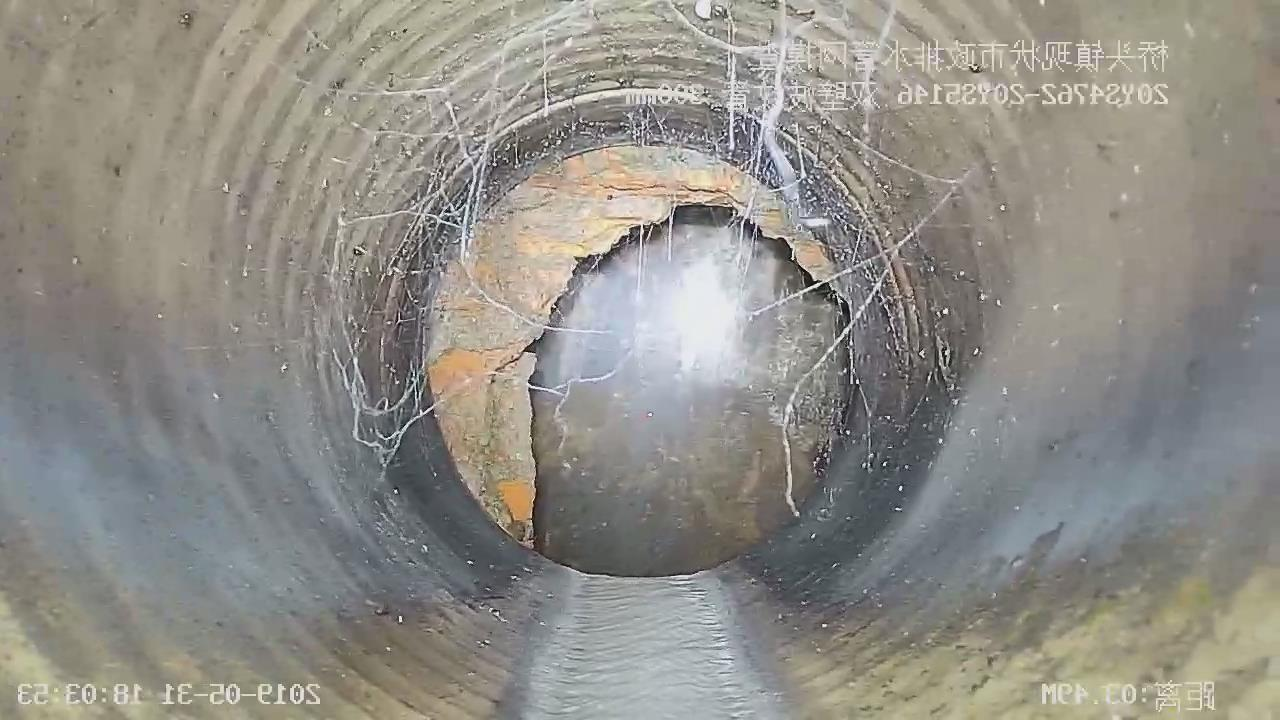CQBG: (427, 146, 834, 535)
